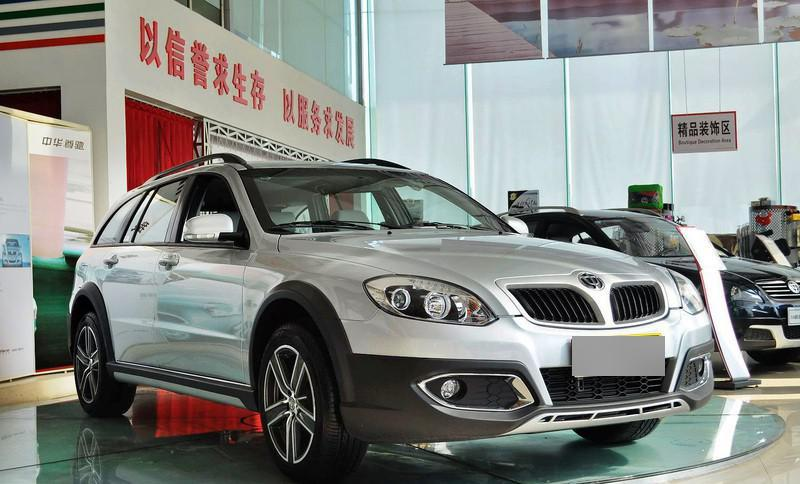Wagon: (65, 151, 716, 484)
